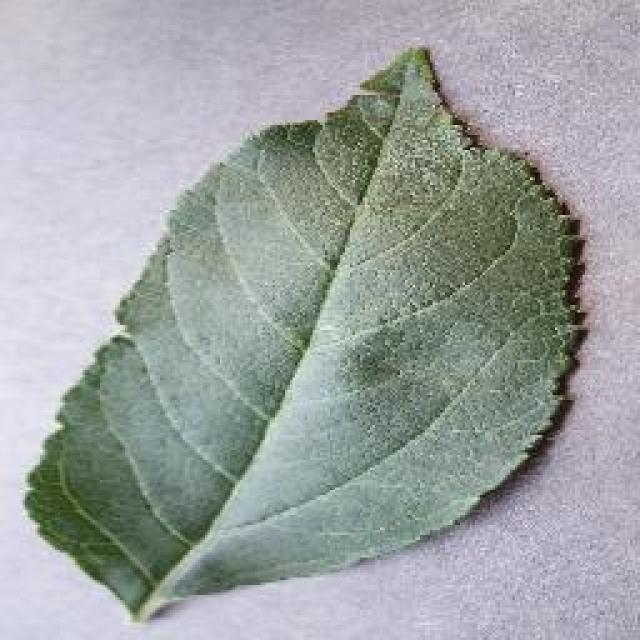apple healthy: (20, 42, 590, 622)
